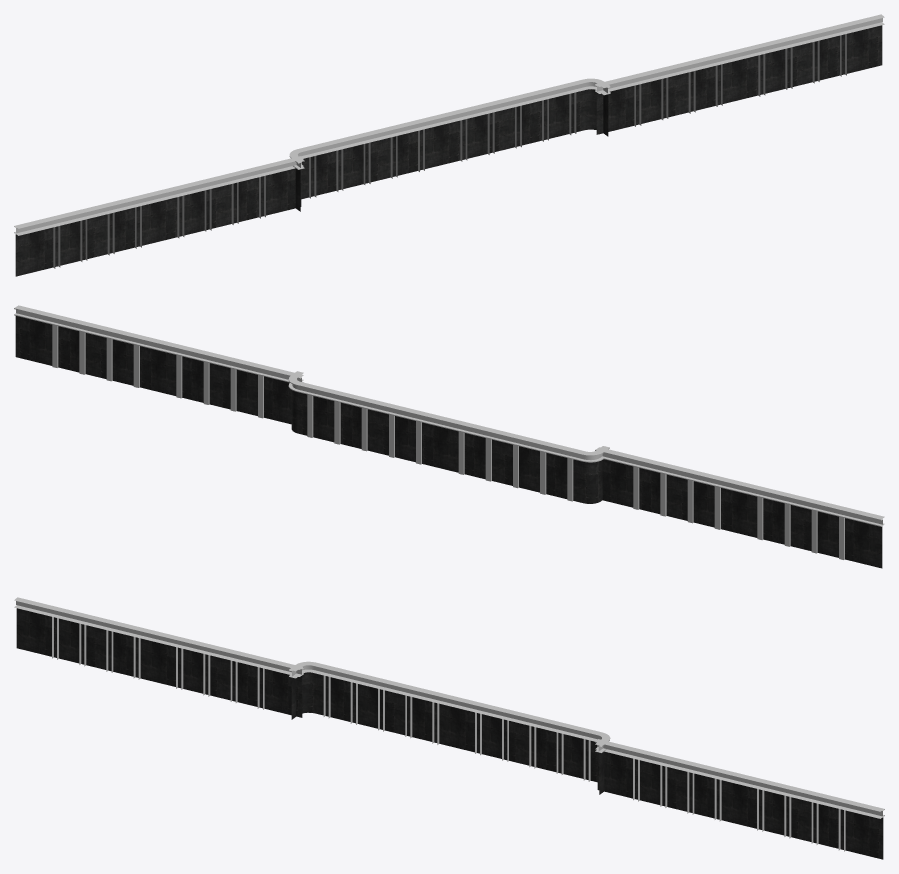
The model's file is tesla_modules_core_wall_start_top.dae.
The picture shows the model from 3 angles, top to bottom: view 1: azimuth 30°, elevation 25°; view 2: azimuth 150°, elevation 25°; view 3: azimuth 330°, elevation 25°; orthographic projection.
Parts seen in each view (by area): view 1: polySurface150, polySurface149; view 2: polySurface150, polySurface149; view 3: polySurface150, polySurface149.
Part boxes in pixels (bbox=[...]): polySurface150: bbox=[15, 25, 882, 276]; polySurface149: bbox=[14, 14, 884, 268]; polySurface150: bbox=[15, 316, 882, 568]; polySurface149: bbox=[14, 305, 884, 559]; polySurface150: bbox=[16, 608, 883, 859]; polySurface149: bbox=[14, 597, 884, 851].
Size of the model in its own units: 128 by 7 by 3.61.
